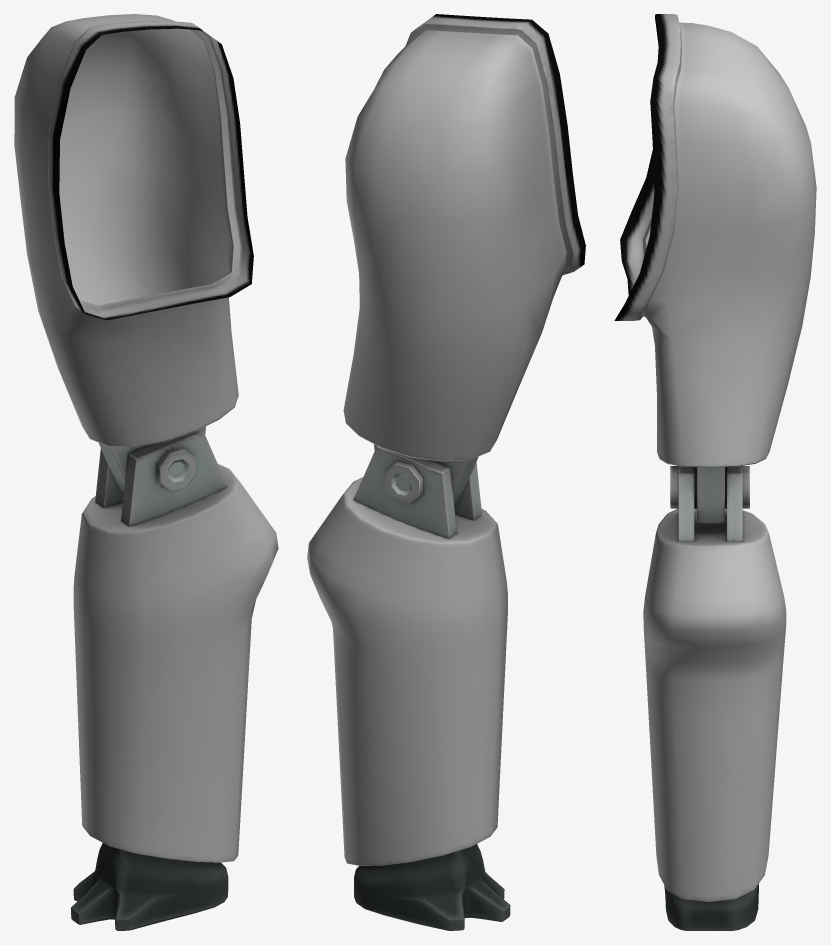
The model's file is right_back_leg.obj.
3 views of the same model, side by side, from view 1: azimuth 30°, elevation 25°; view 2: azimuth 150°, elevation 25°; view 3: azimuth 270°, elevation 25° (orthographic). The views are drawn at different scales.
Visible parts, largest first — view 1: Useless_Dog__Leg_back_right; view 2: Useless_Dog__Leg_back_right; view 3: Useless_Dog__Leg_back_right.
Part boxes in pixels (x1,y1,x2,y2): Useless_Dog__Leg_back_right: (14, 14, 278, 930); Useless_Dog__Leg_back_right: (307, 14, 585, 930); Useless_Dog__Leg_back_right: (614, 14, 816, 930).
Size of the model in its own units: 0.7932 by 2.95 by 0.6347.
Materials: 1 (1 with a texture image).
